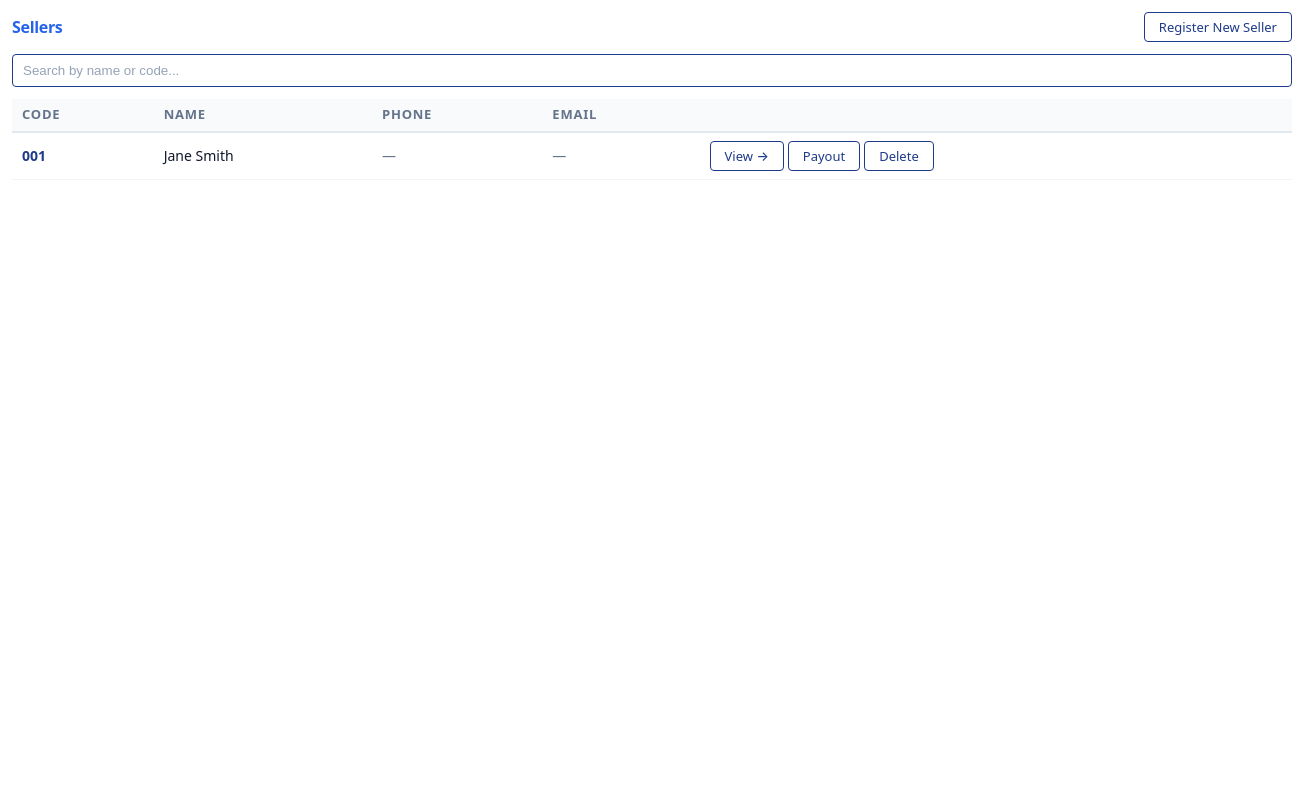
Test: SellerListPage › shows payout panel when Payout is clicked
Expected: the text "Jane Smith" is shown, [154,132,372,179]
What coordinates should you click on to do the following:
click the button "Payout"
I would click on:
 (824, 156)
Its box is [788,140,860,170].
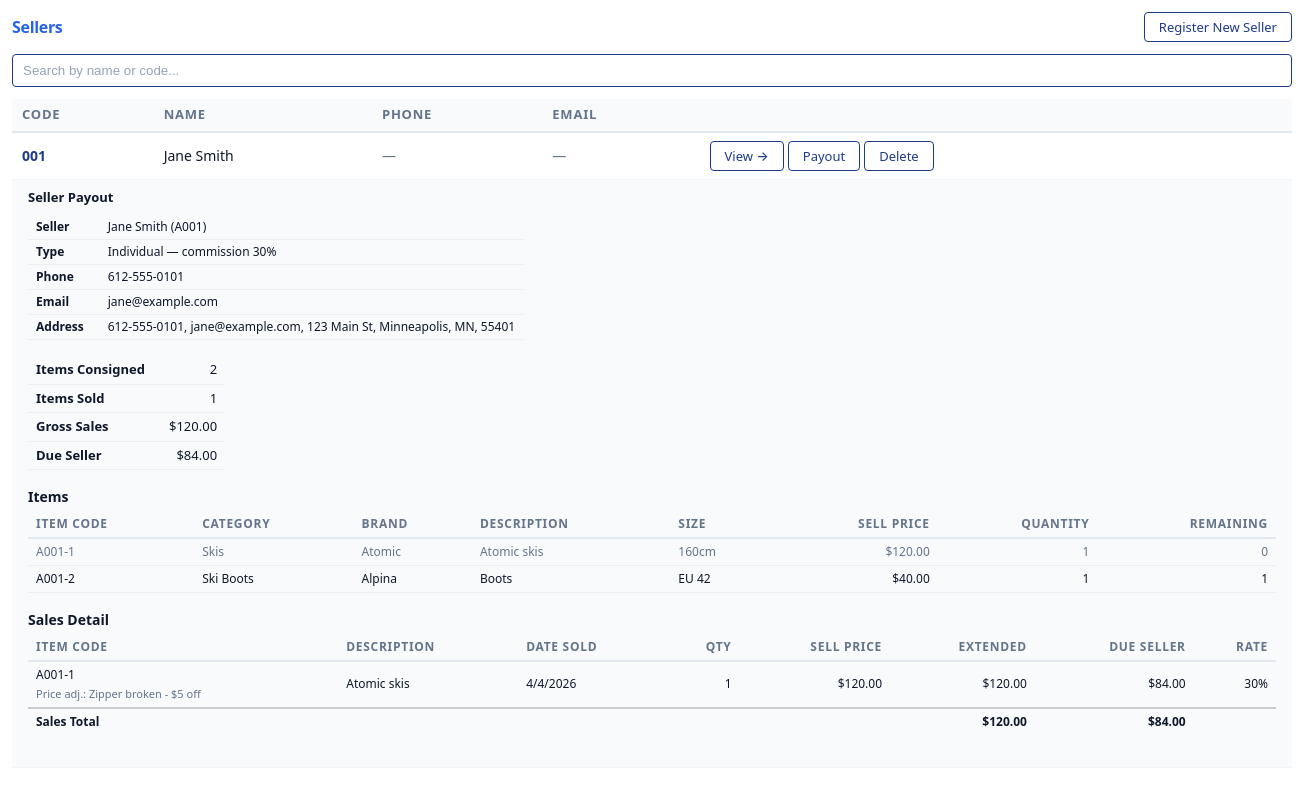
Now the text "$84.00" below "Gross Sales" is shown, box [176,446,217,464]
